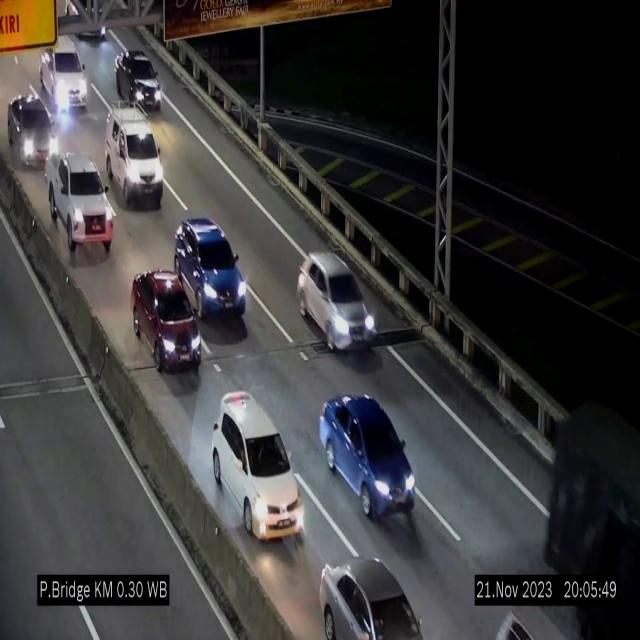Car: (213, 392, 305, 540), (319, 394, 416, 522), (296, 252, 378, 350), (175, 217, 248, 323), (131, 270, 201, 372), (45, 154, 111, 257), (106, 103, 164, 208), (43, 33, 101, 115), (5, 90, 55, 165), (116, 50, 162, 112)
